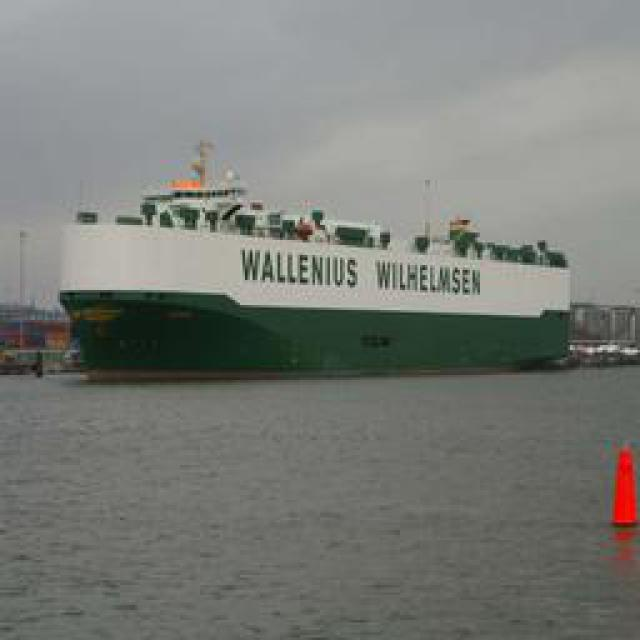Ship: (55, 131, 580, 376)
